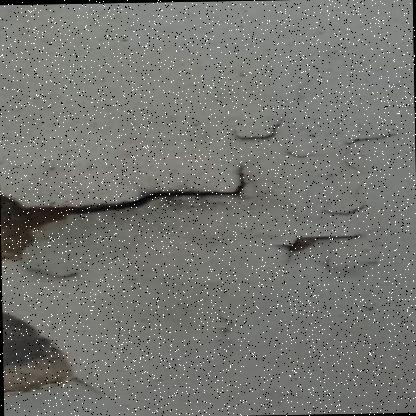Crack: (0, 158, 258, 284), (2, 302, 112, 408), (269, 217, 378, 279), (337, 123, 411, 182), (226, 98, 294, 143), (309, 197, 382, 216), (203, 303, 247, 332), (276, 145, 328, 164)
